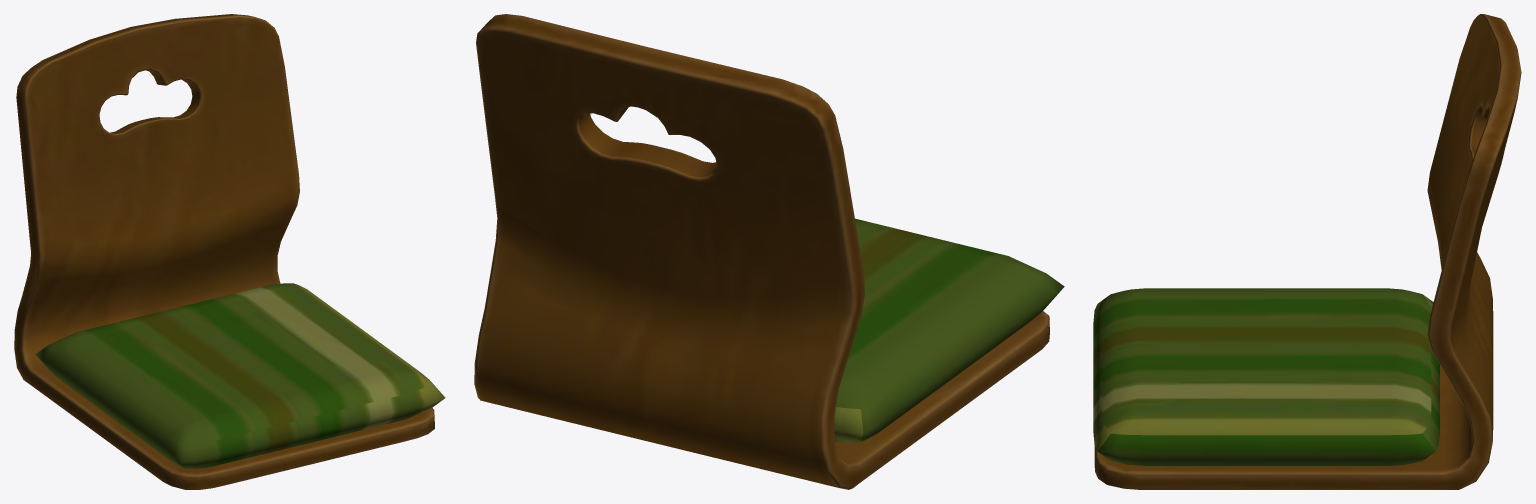
The picture shows the model from 3 angles, left to right: view 1: azimuth 30°, elevation 25°; view 2: azimuth 150°, elevation 25°; view 3: azimuth 270°, elevation 25°; orthographic projection. The views are drawn at different scales.
Size of the model in its own units: 6.67 by 7.31 by 8.04.
Materials: 2 (2 with a texture image).
